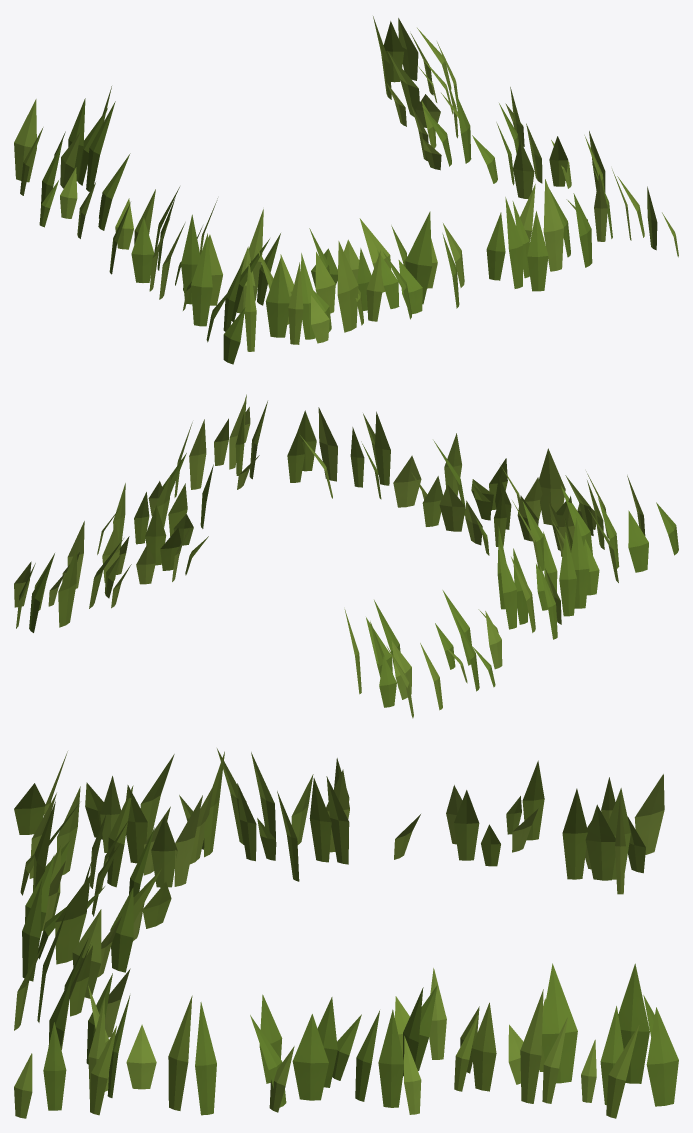
File: tile_grass_end_03.glb
3 renders of one model, top to bottom at view 1: azimuth 30°, elevation 25°; view 2: azimuth 150°, elevation 25°; view 3: azimuth 270°, elevation 25°, orthographic. The views are drawn at different scales.
Visible parts, largest first — view 1: tile_grass_end_03; view 2: tile_grass_end_03; view 3: tile_grass_end_03.
Part boxes in pixels (bbox=[...]): tile_grass_end_03: bbox=[14, 16, 678, 364]; tile_grass_end_03: bbox=[14, 394, 678, 718]; tile_grass_end_03: bbox=[14, 748, 678, 1118].
Size of the model in its own units: 1 by 0.1807 by 0.9849.
Materials: 1 (1 with a texture image).
